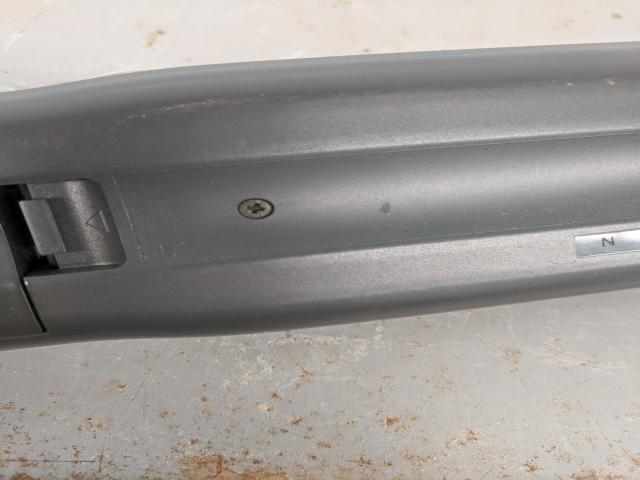CRS: (237, 198, 276, 221)
